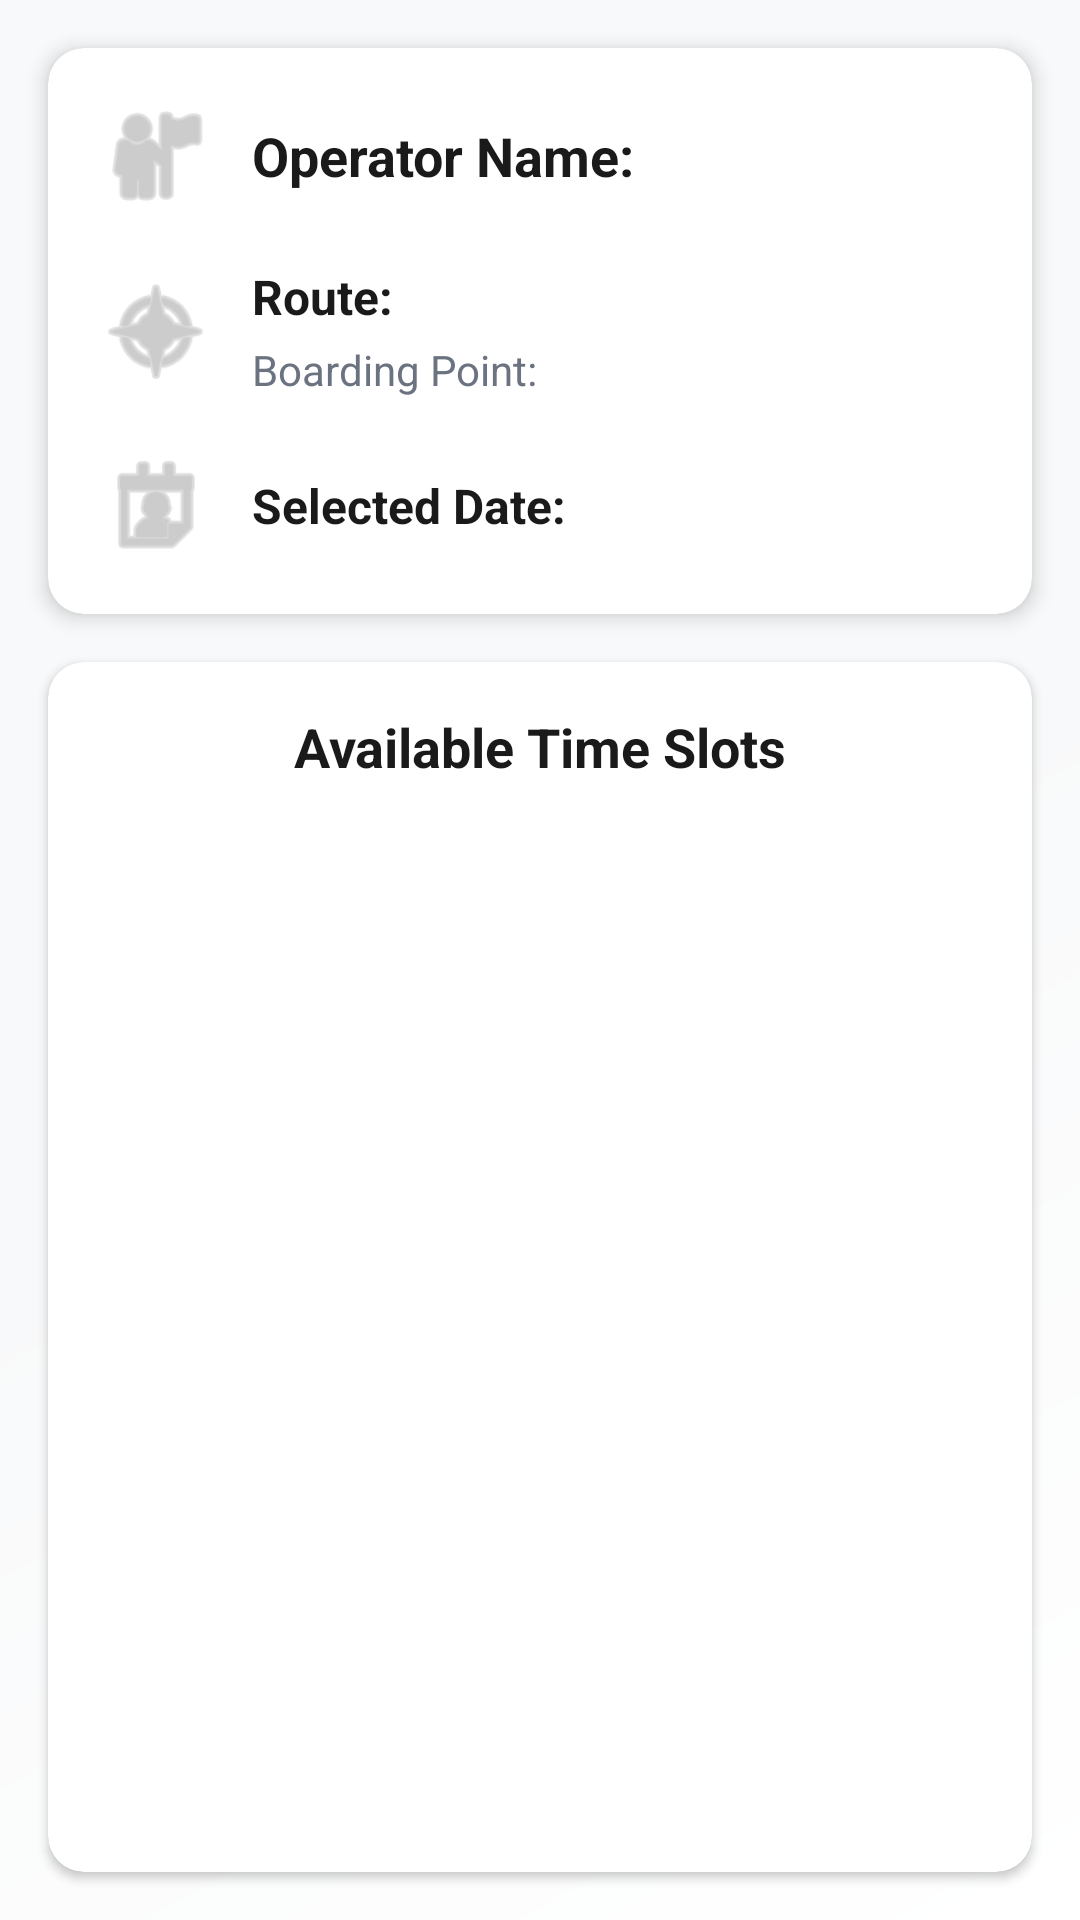

Where icons sit on this 1080 × 1920 app screen, as (x1, y1, x2, y2):
calendar: (118, 461, 194, 548)
compass: (109, 285, 202, 378)
